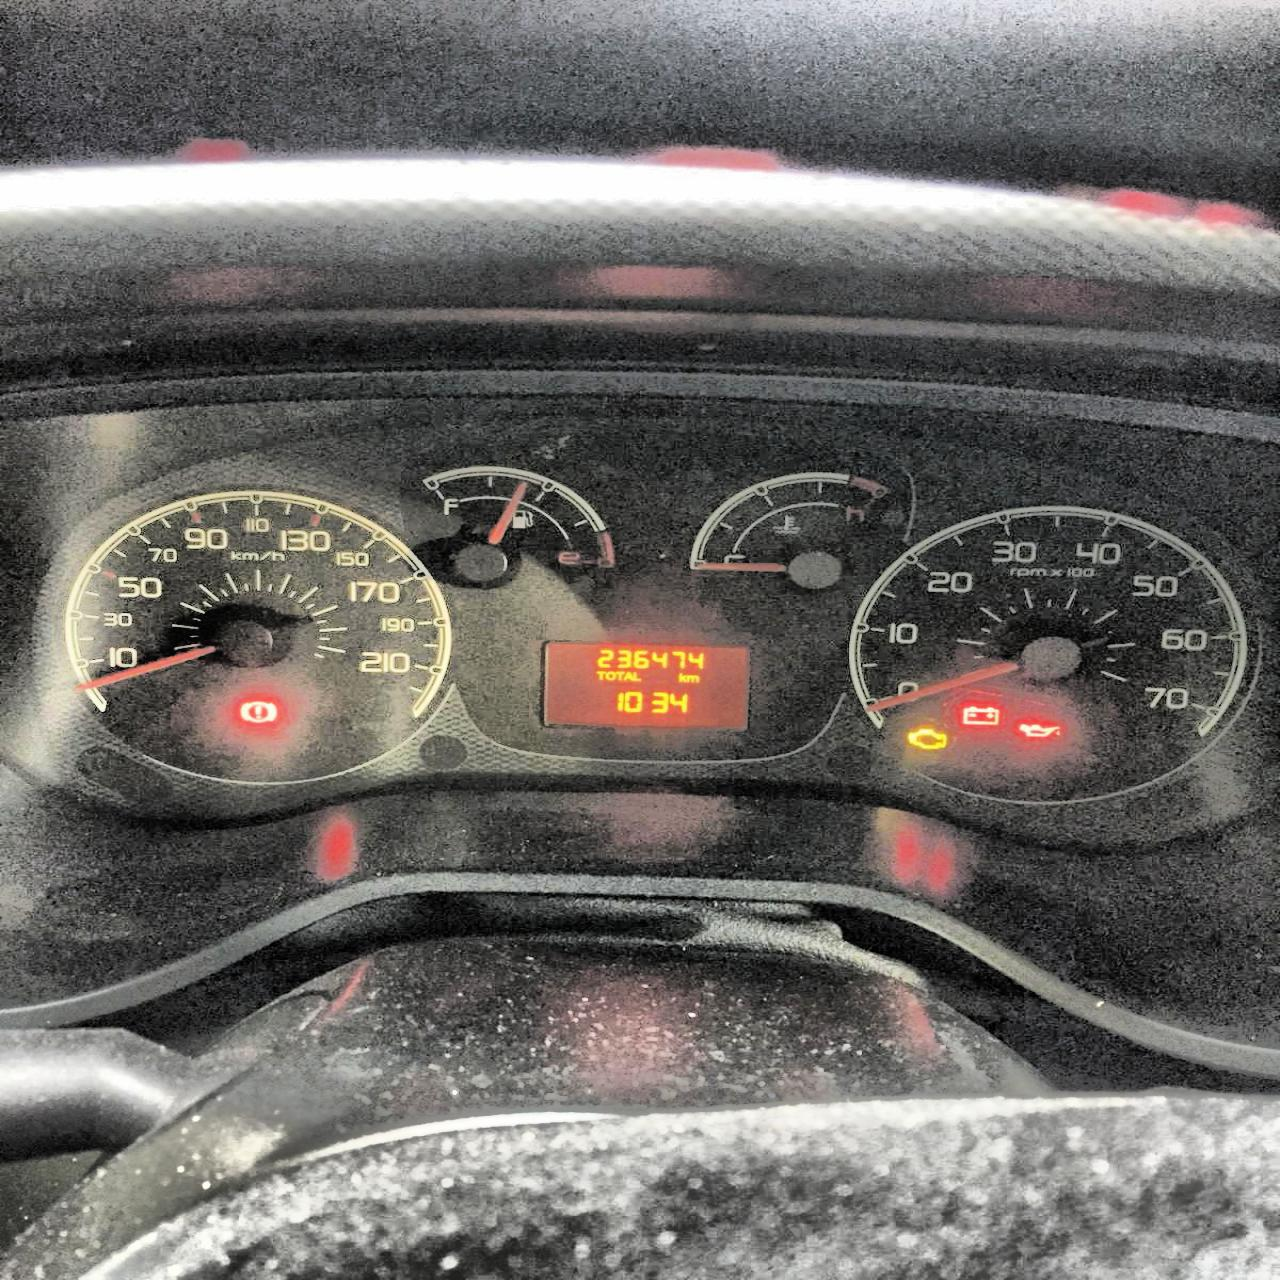0: (625, 689, 644, 713)
1: (615, 689, 625, 713)
2: (597, 647, 613, 668)
3: (651, 689, 668, 713), (617, 648, 632, 668)
4: (669, 692, 687, 713), (652, 649, 670, 668), (687, 651, 704, 669)
6: (633, 649, 649, 669)
7: (670, 648, 686, 668)
X: (686, 673, 699, 683), (595, 669, 606, 680), (605, 670, 615, 681), (632, 670, 641, 681), (622, 670, 632, 681), (679, 672, 687, 683), (615, 669, 624, 681)
odometer: (542, 639, 751, 731)
